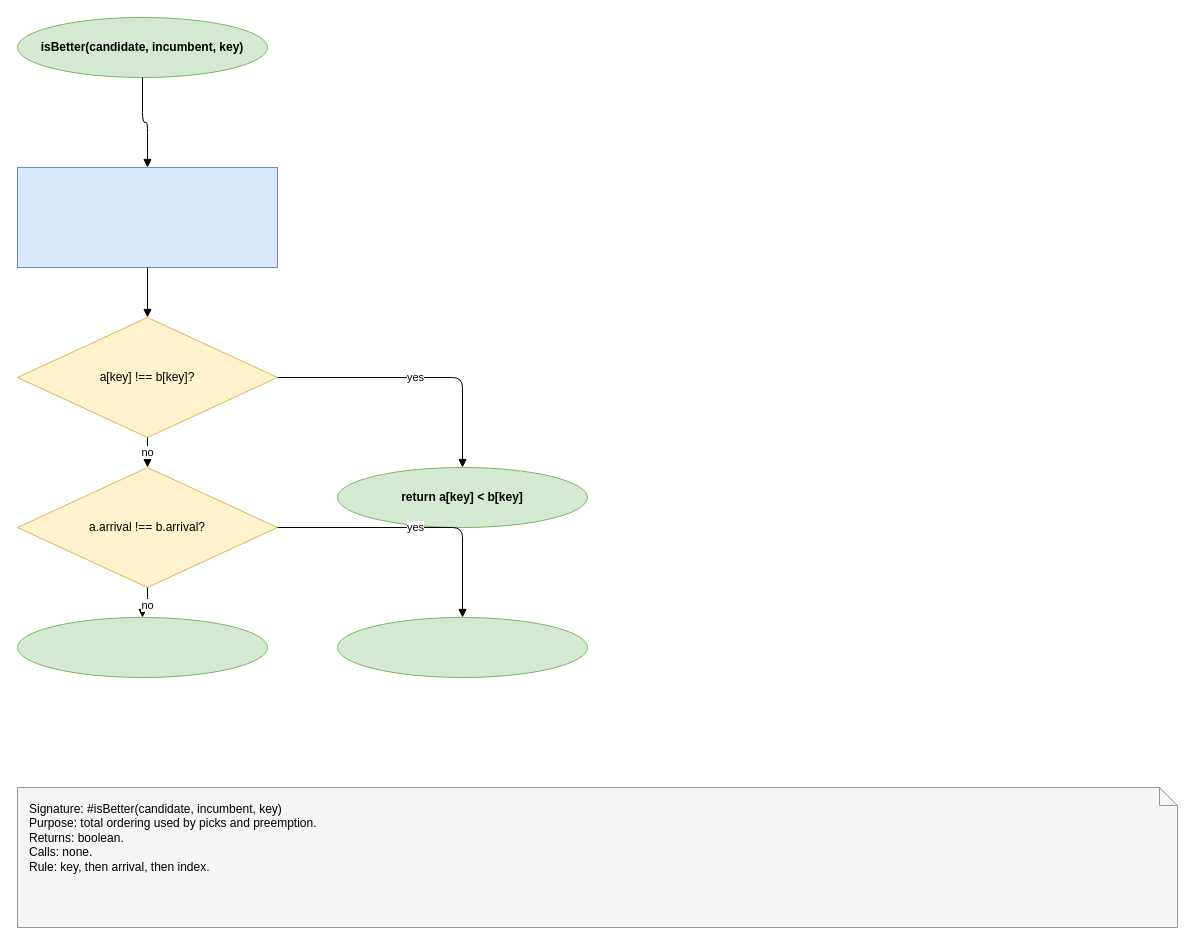
The diagram is 1195 pixels wide and 945 high, and some of its shapes have lost their labels. The centre of each missing label's shape, as x and y in pixels:
a = processes[candidate] b = processes[incumbent]: (147,217)
return a.arrival < b.arrival: (462,647)
return a.index < b.index: (142,647)
